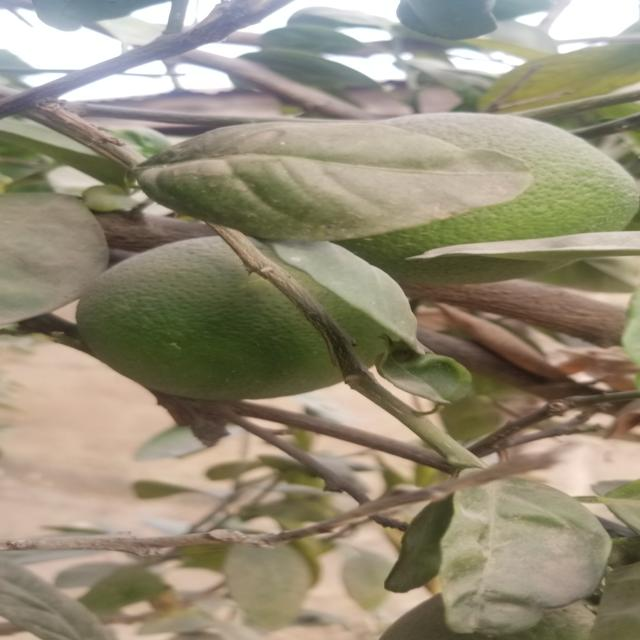Unripe: (330, 111, 630, 283), (72, 235, 385, 394)
